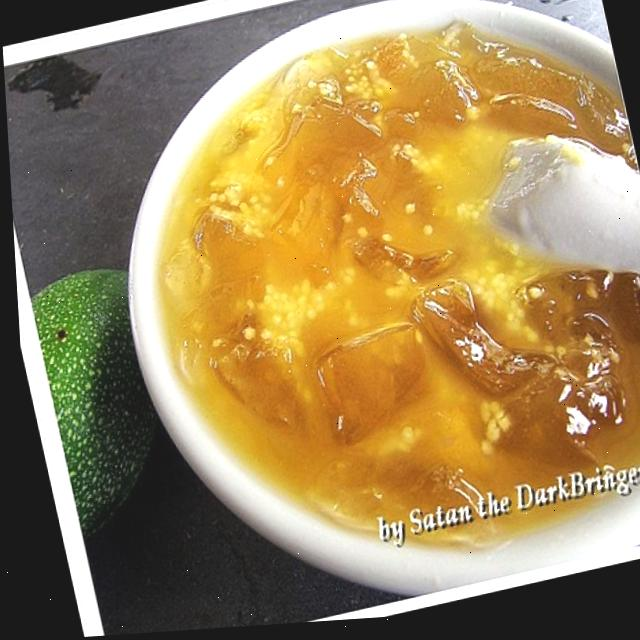蛋糕甜品: (57, 0, 640, 626)
